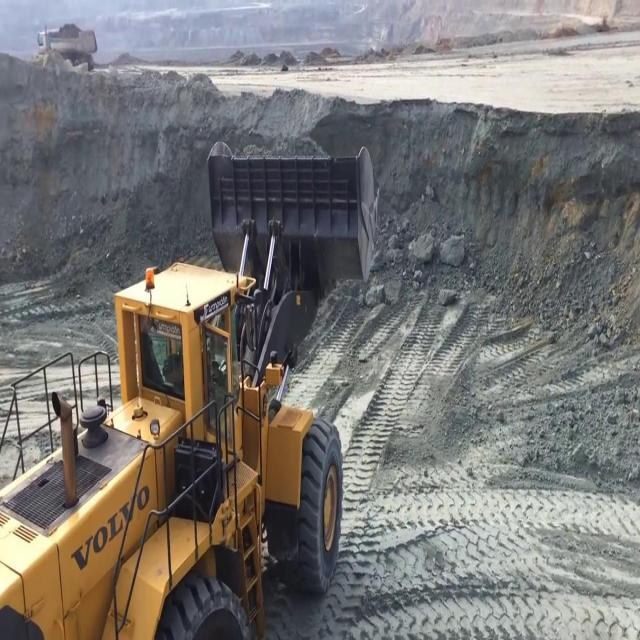Dump Truck: (34, 22, 97, 68)
Loader: (0, 134, 382, 636)
